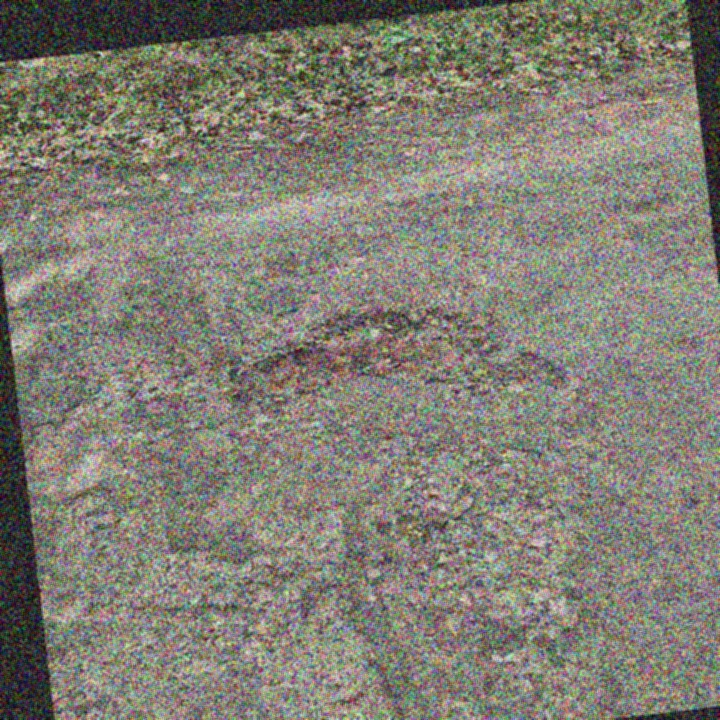pothole: (221, 279, 571, 438)
